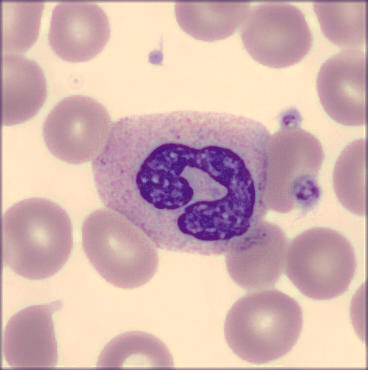WBC: (96, 109, 274, 258)
